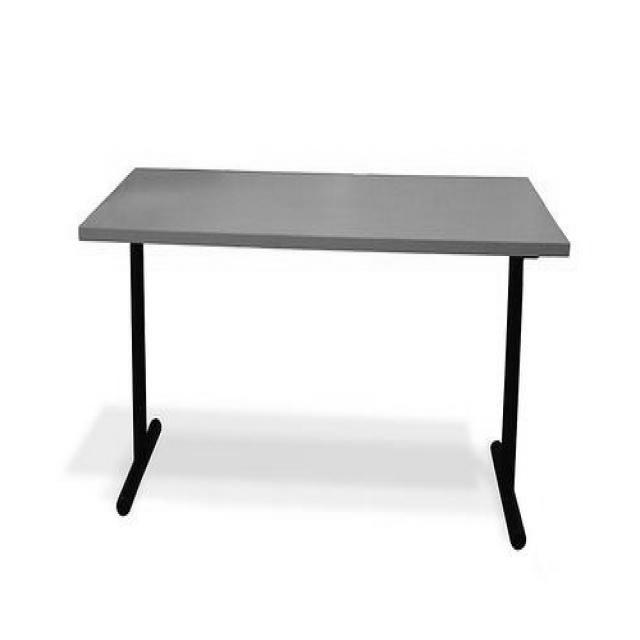table: (78, 168, 568, 550)
